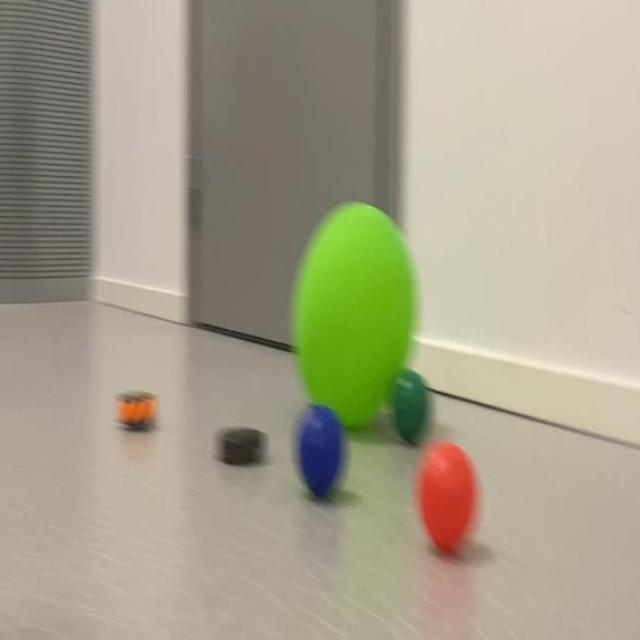blue ball: (290, 403, 348, 495)
green ball: (392, 376, 434, 446)
red ball: (420, 450, 487, 567)
